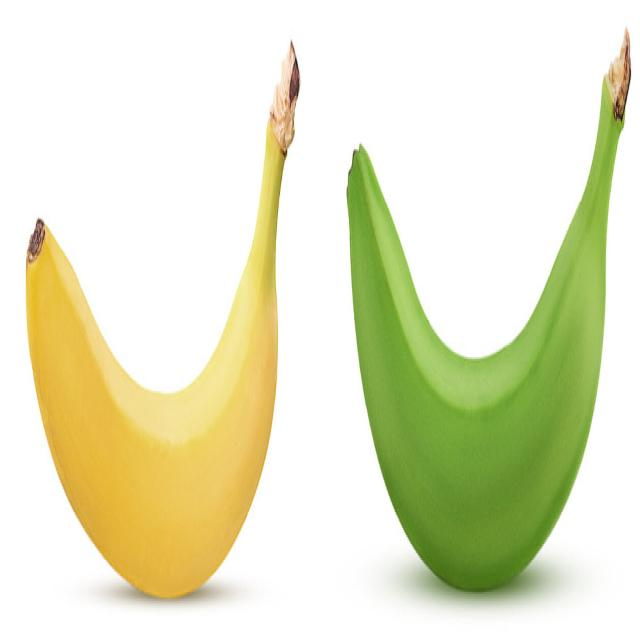non_orange: (345, 24, 634, 608), (22, 26, 302, 617)
